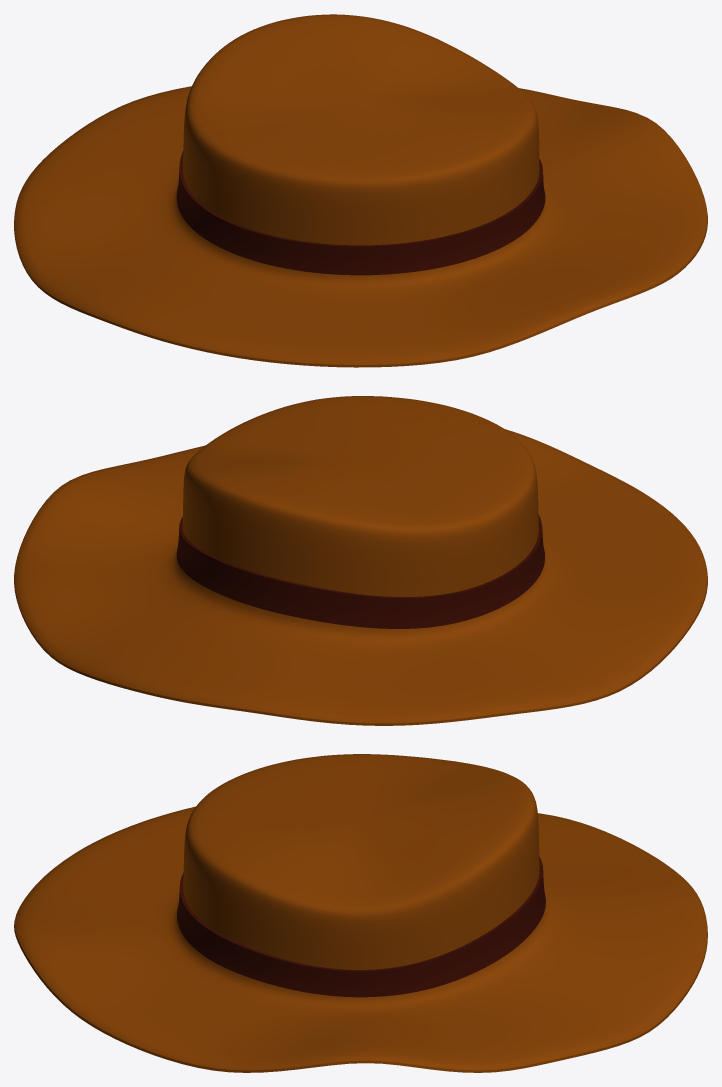
File: hat.glb
The picture shows the model from 3 angles, top to bottom: view 1: azimuth 30°, elevation 25°; view 2: azimuth 150°, elevation 25°; view 3: azimuth 270°, elevation 25°; orthographic projection.
Visible parts, largest first — view 1: Circle, Circle.001; view 2: Circle, Circle.001; view 3: Circle, Circle.001.
Boxes of the visible parts, x1,y1,x2,y2 form: Circle: (14, 14, 707, 367); Circle.001: (176, 150, 545, 275); Circle: (14, 396, 707, 725); Circle.001: (176, 515, 544, 628); Circle: (14, 754, 707, 1072); Circle.001: (177, 856, 545, 997).
Size of the model in its own units: 1.98 by 0.4792 by 1.98.
